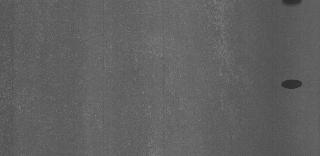oil spot: (278, 76, 308, 94), (278, 0, 306, 10)
